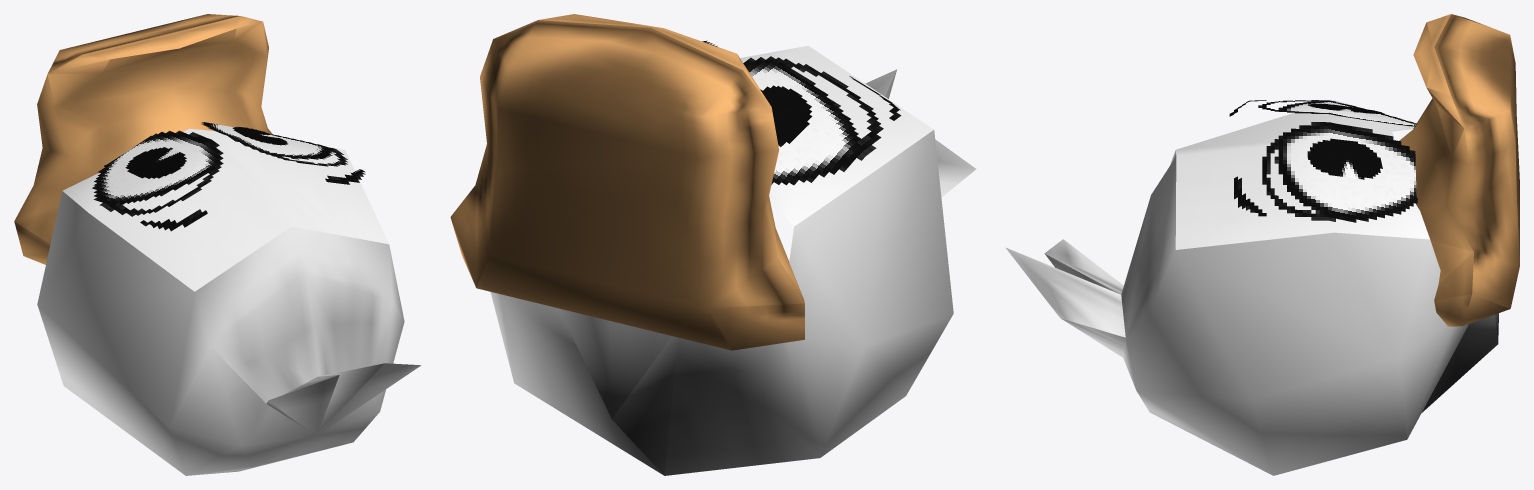
The model's file is fss_500.glb.
3 views of the same model, side by side, from view 1: azimuth 30°, elevation 25°; view 2: azimuth 150°, elevation 25°; view 3: azimuth 270°, elevation 25° (orthographic). The views are drawn at different scales.
Visible parts, largest first — view 1: head-short, muzzle-short-neutral, head-front-short, eyes-short, joint_pupilL_short, joint_pupilR_short; view 2: muzzle-short-neutral, head-short, head-front-short, eyes-short, joint_pupilL_short; view 3: head-short, muzzle-short-neutral, head-front-short, eyes-short, joint_pupilR_short.
Boxes of the visible parts, bbox=[...] form: head-short: bbox=[37, 191, 420, 475]; muzzle-short-neutral: bbox=[14, 14, 272, 264]; head-front-short: bbox=[62, 128, 388, 291]; eyes-short: bbox=[92, 122, 365, 231]; joint_pupilL_short: bbox=[125, 147, 186, 178]; joint_pupilR_short: bbox=[232, 126, 287, 145]; muzzle-short-neutral: bbox=[450, 14, 804, 350]; head-short: bbox=[490, 69, 976, 475]; head-front-short: bbox=[740, 45, 933, 226]; eyes-short: bbox=[702, 40, 901, 185]; joint_pupilL_short: bbox=[760, 85, 812, 146]; head-short: bbox=[1005, 150, 1498, 475]; muzzle-short-neutral: bbox=[1399, 14, 1519, 326]; head-front-short: bbox=[1175, 100, 1429, 249]; eyes-short: bbox=[1229, 100, 1417, 222]; joint_pupilR_short: bbox=[1307, 138, 1382, 179].
Size of the model in its own units: 1.29 by 1.6 by 1.83.
Materials: 4 (4 with a texture image).
